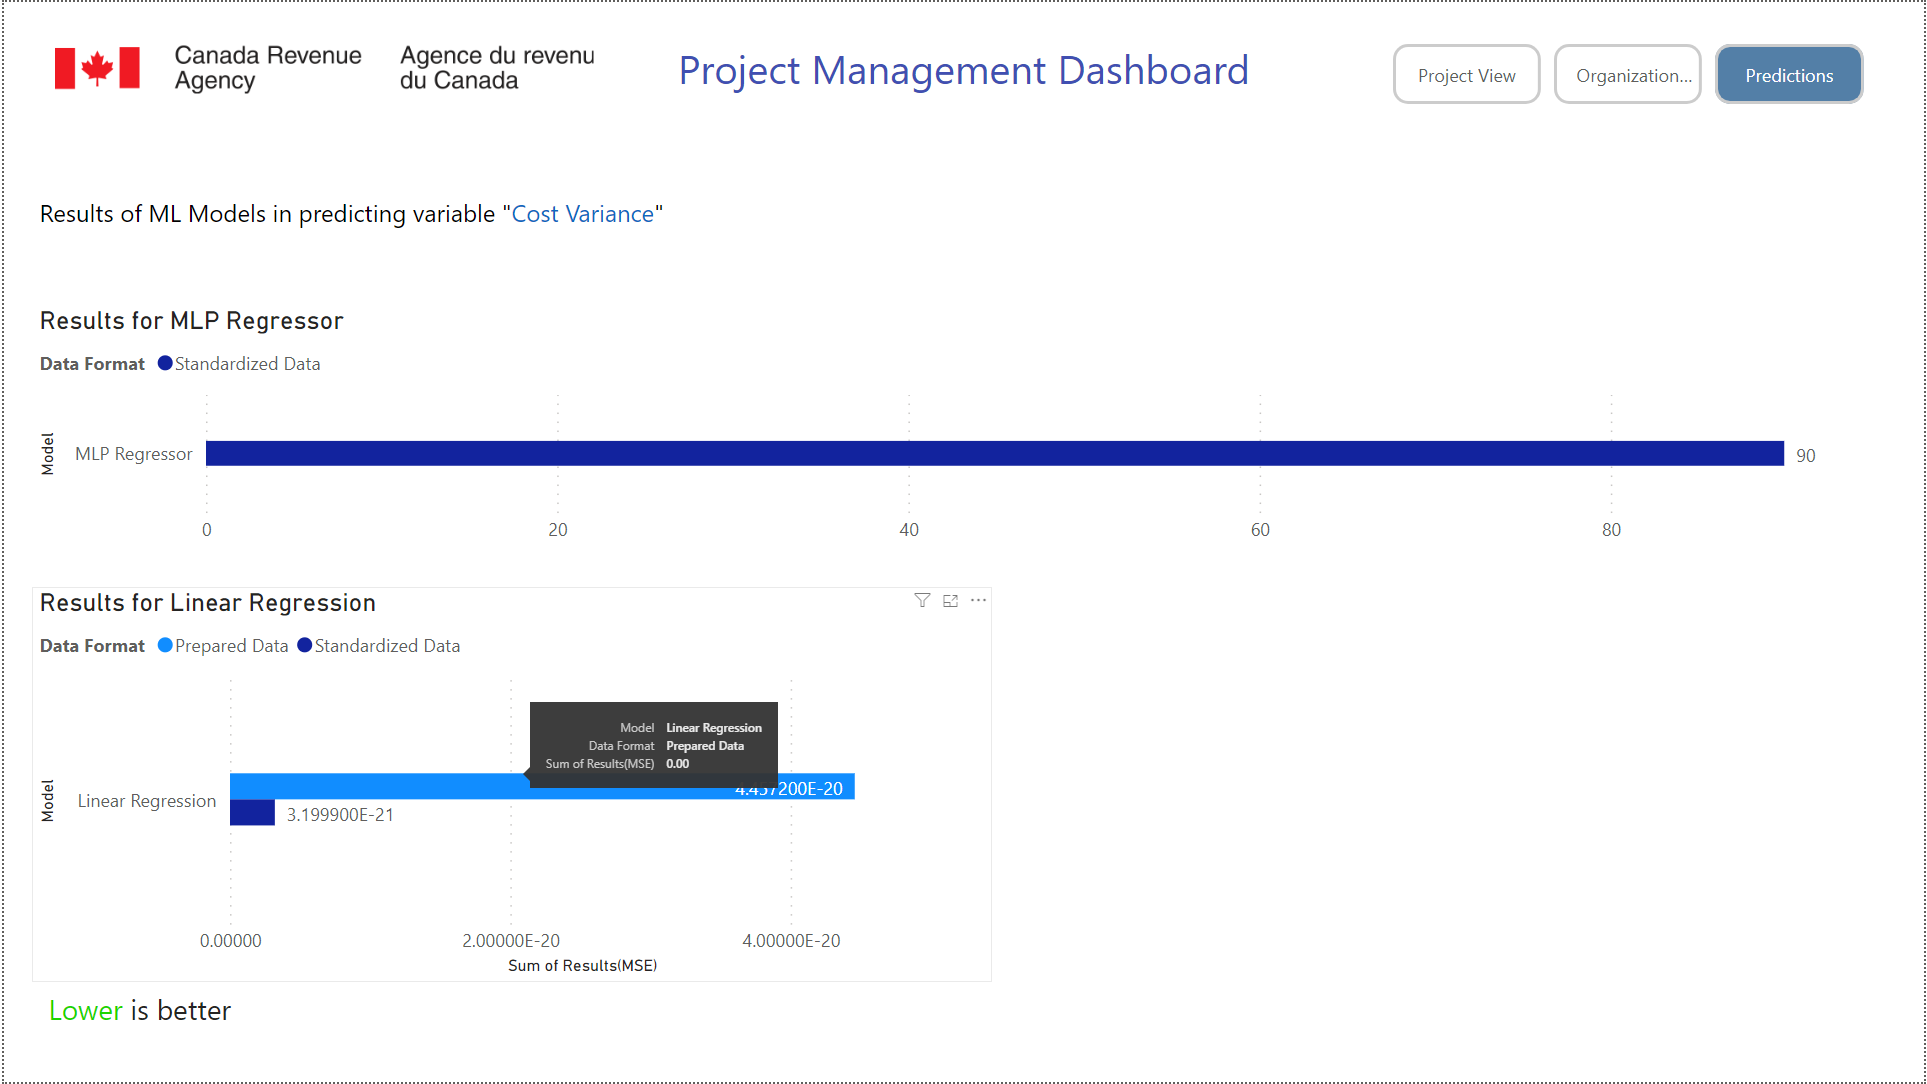

The dashboard page shown, as its layout file describes it:
{"tool":"powerbi","page":{"name":"Predictions","canvas":[1280,720],"ordinal":2},"visuals":[{"type":"actionButton","title":"Home","box":[1140.7,27.9,99.3,40],"z":0},{"type":"image","box":[0,24,427.3,42],"z":1000},{"type":"textbox","box":[409.3,20.7,461.3,47.3],"z":2000},{"type":"actionButton","box":[925.7,27.9,98.6,40],"z":3000},{"type":"actionButton","box":[1033.6,27.9,98.6,40],"z":5000},{"type":"clusteredBarChart","title":"Results for Linear Regression","fields":{"Category":["Model Results.Model"],"Series":["Model Results.Data Format"],"Y":["Sum(Model Results.Results(MSE))"]},"box":[18.5,390,640,263.1],"z":5001},{"type":"clusteredBarChart","title":"Results for MLP Regressor","fields":{"Category":["Model Results.Model"],"Series":["Model Results.Data Format"],"Y":["Sum(Model Results.Results(MSE))"]},"box":[18.5,202.3,1221.5,167.7],"z":5002},{"type":"textbox","box":[18.5,124.6,442.3,39.2],"z":5003},{"type":"textbox","box":[24.6,653.1,146.9,41.5],"z":5004}]}

Visuals, with their boxes in screenshot pixels (x1, y1, x2, y2), scaled from the page's 1280x720 canvas onto the 1927x1084 screenshot:
"Home" actionButton: x1=1717 y1=42 x2=1867 y2=102
image: x1=0 y1=36 x2=643 y2=99
textbox: x1=616 y1=31 x2=1311 y2=102
actionButton: x1=1394 y1=42 x2=1542 y2=102
actionButton: x1=1556 y1=42 x2=1704 y2=102
"Results for Linear Regression" clusteredBarChart: x1=28 y1=587 x2=991 y2=983
"Results for MLP Regressor" clusteredBarChart: x1=28 y1=305 x2=1867 y2=557
textbox: x1=28 y1=188 x2=694 y2=247
textbox: x1=37 y1=983 x2=258 y2=1046
